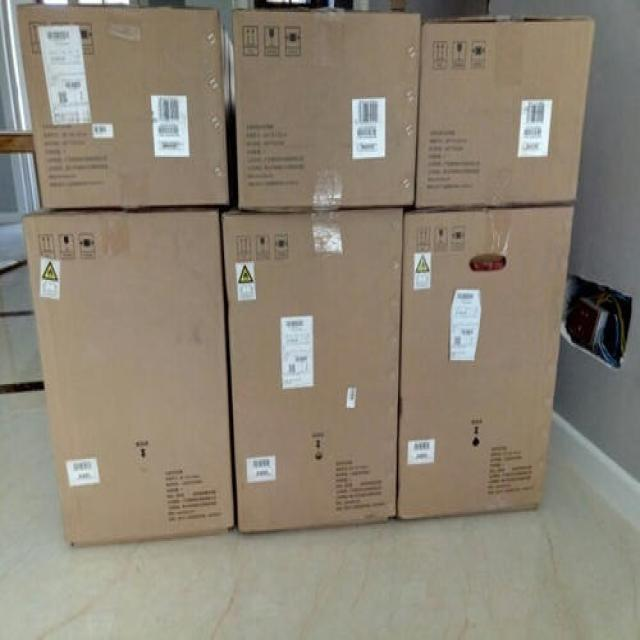box: (25, 203, 237, 546), (221, 195, 405, 531), (398, 205, 574, 519), (16, 8, 239, 209), (232, 13, 420, 206), (415, 20, 594, 205)
